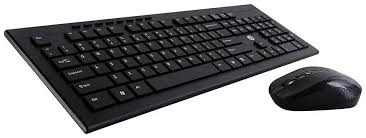keyboard: (0, 4, 321, 138)
mouse: (270, 63, 364, 120)
